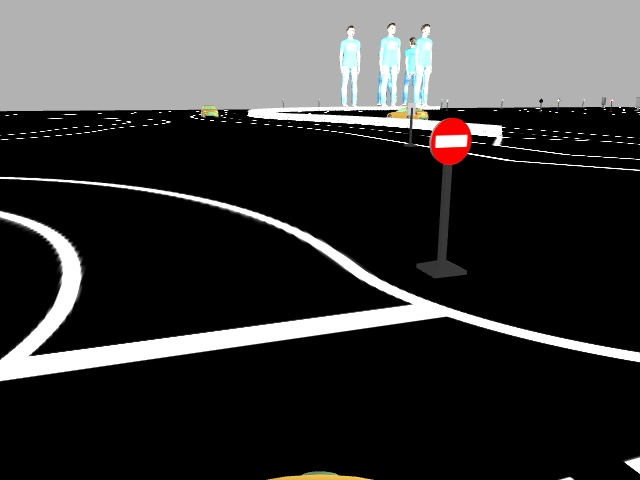NoEntry: (425, 116, 471, 164)
